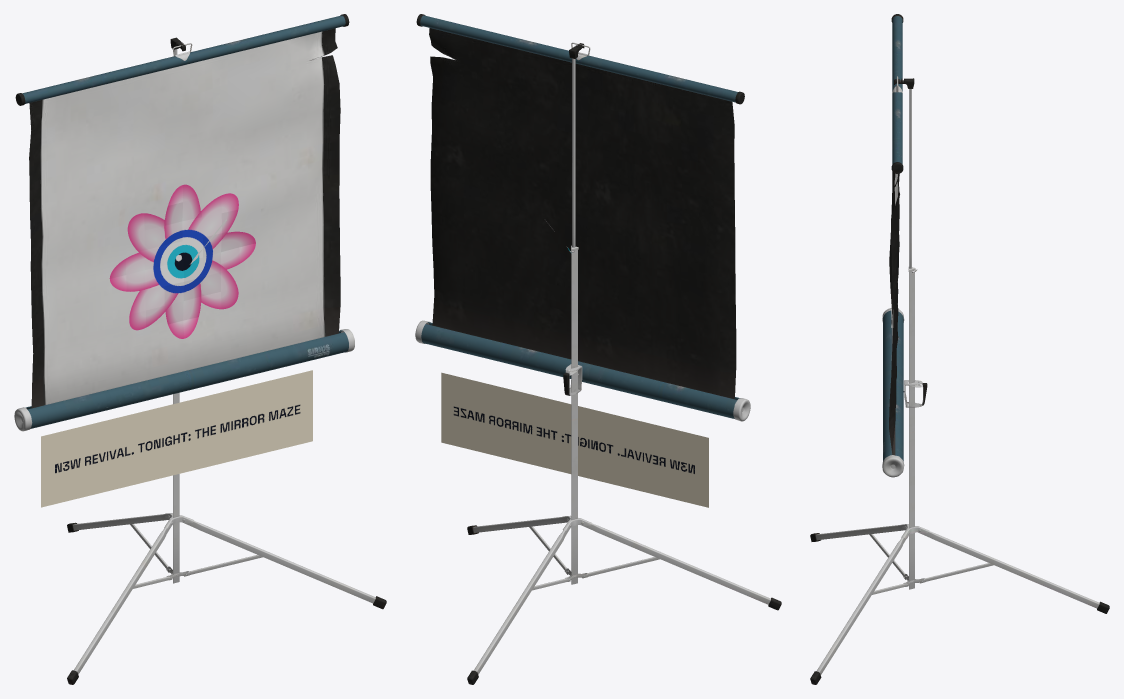
The model's file is nyb_mmmystery_screen.glb.
3 renders of one model, left to right at view 1: azimuth 30°, elevation 25°; view 2: azimuth 150°, elevation 25°; view 3: azimuth 270°, elevation 25°, orthographic. The views are drawn at different scales.
Parts seen in each view (by area): view 1: projector_screen, stk_lbl_44b0eb0506.png, stk_eyeflower.png; view 2: projector_screen, stk_lbl_44b0eb0506.png; view 3: projector_screen.
Part boxes in pixels (<box>): projector_screen: <box>14,14,386,684</box>; stk_lbl_44b0eb0506.png: <box>41,370,312,507</box>; stk_eyeflower.png: <box>109,184,255,338</box>; projector_screen: <box>415,14,781,684</box>; stk_lbl_44b0eb0506.png: <box>441,372,708,507</box>; projector_screen: <box>810,14,1109,684</box>.
Bounding box in the file's own units: 1.09 × 1.8 × 0.9158.
4 materials, 4 textured.
